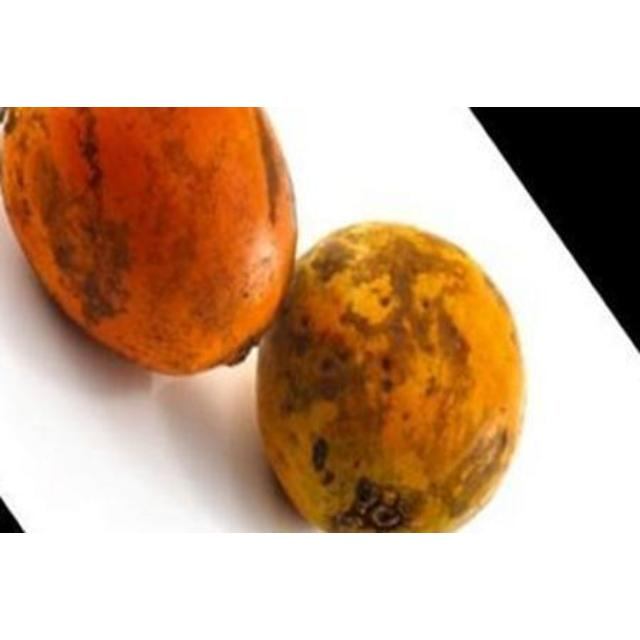good: (255, 222, 528, 532), (1, 107, 299, 379)
